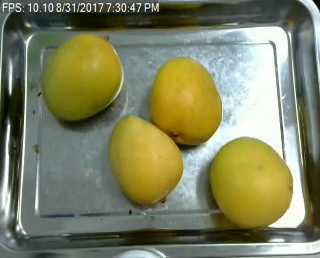Mango: (36, 32, 125, 123), (212, 135, 294, 231), (107, 112, 181, 208), (147, 55, 220, 143)
